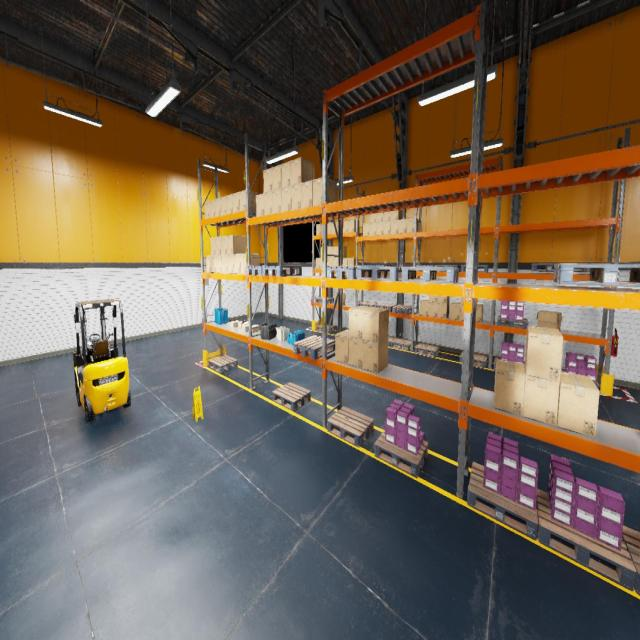box: (557, 371, 599, 438), (523, 365, 559, 426), (525, 325, 563, 382), (494, 359, 526, 416), (363, 307, 389, 342), (363, 338, 388, 373), (349, 306, 373, 340), (313, 177, 337, 206), (290, 157, 314, 186), (536, 310, 562, 330), (335, 330, 349, 364), (348, 337, 362, 369), (239, 190, 259, 212), (240, 254, 260, 274), (227, 235, 246, 254), (301, 180, 313, 208), (281, 160, 291, 188), (291, 183, 301, 210), (281, 186, 291, 212), (272, 164, 281, 191), (272, 189, 282, 213), (263, 168, 272, 193), (437, 302, 449, 318), (256, 193, 264, 216), (450, 302, 460, 320), (406, 218, 418, 233), (264, 192, 272, 214), (232, 192, 239, 213), (334, 292, 346, 304), (420, 299, 428, 316), (428, 302, 437, 317), (220, 196, 227, 215), (233, 254, 240, 273), (227, 254, 234, 273), (348, 220, 359, 232), (398, 218, 406, 234), (476, 304, 483, 322), (336, 246, 347, 257), (226, 194, 232, 214), (391, 210, 402, 220), (204, 201, 210, 219), (221, 236, 227, 254), (210, 237, 216, 255), (216, 255, 222, 272), (391, 220, 398, 234), (210, 199, 215, 218), (216, 236, 221, 255), (384, 221, 391, 234), (369, 222, 376, 235), (215, 198, 220, 216), (222, 255, 227, 272), (211, 255, 216, 272), (206, 255, 211, 272), (376, 222, 383, 234), (348, 258, 358, 266), (376, 212, 384, 222), (363, 223, 369, 236), (438, 296, 449, 303), (331, 222, 337, 234), (383, 212, 391, 221), (230, 321, 240, 327), (460, 305, 464, 320), (331, 246, 336, 258), (343, 220, 348, 232), (238, 320, 245, 328), (429, 295, 437, 302), (316, 224, 321, 235), (242, 319, 248, 328), (252, 325, 259, 332), (327, 246, 331, 258), (327, 222, 331, 234), (370, 214, 376, 222), (316, 258, 320, 269), (242, 324, 248, 331), (331, 258, 336, 266), (343, 258, 347, 266), (327, 258, 331, 266), (461, 297, 463, 304), (336, 258, 338, 265), (321, 258, 322, 269), (321, 247, 322, 258), (337, 222, 338, 233), (321, 224, 322, 235)
forklift: (73, 299, 131, 422)
pallets: (536, 489, 636, 591), (467, 462, 538, 540), (374, 430, 428, 478), (553, 264, 640, 287), (327, 407, 374, 448), (622, 526, 640, 595), (272, 382, 311, 411), (293, 335, 335, 360), (402, 268, 458, 284), (561, 370, 599, 390), (356, 267, 409, 281), (208, 355, 238, 373), (460, 352, 487, 368), (262, 266, 302, 276), (326, 266, 356, 279), (498, 316, 528, 329), (415, 343, 439, 357), (246, 265, 279, 275), (391, 338, 414, 351), (493, 358, 516, 370), (392, 304, 412, 314), (374, 303, 396, 312), (461, 265, 488, 272), (316, 324, 335, 333), (531, 264, 554, 271), (435, 265, 461, 271), (416, 265, 436, 271), (315, 297, 334, 303), (357, 302, 378, 306), (388, 336, 396, 346), (573, 268, 590, 272)
